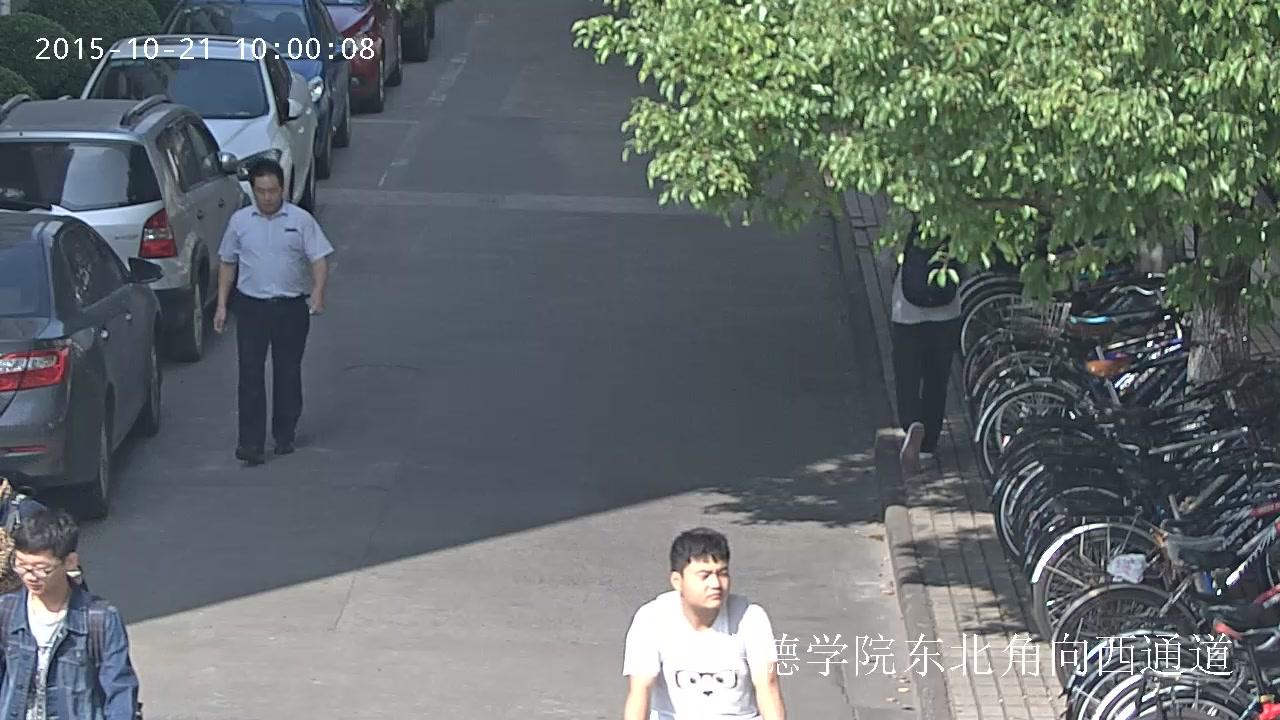face: (682, 553, 730, 608), (14, 546, 62, 593), (253, 176, 282, 213)
